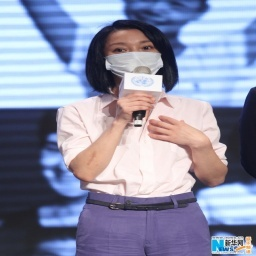correctlyWear: (105, 39, 163, 78)
